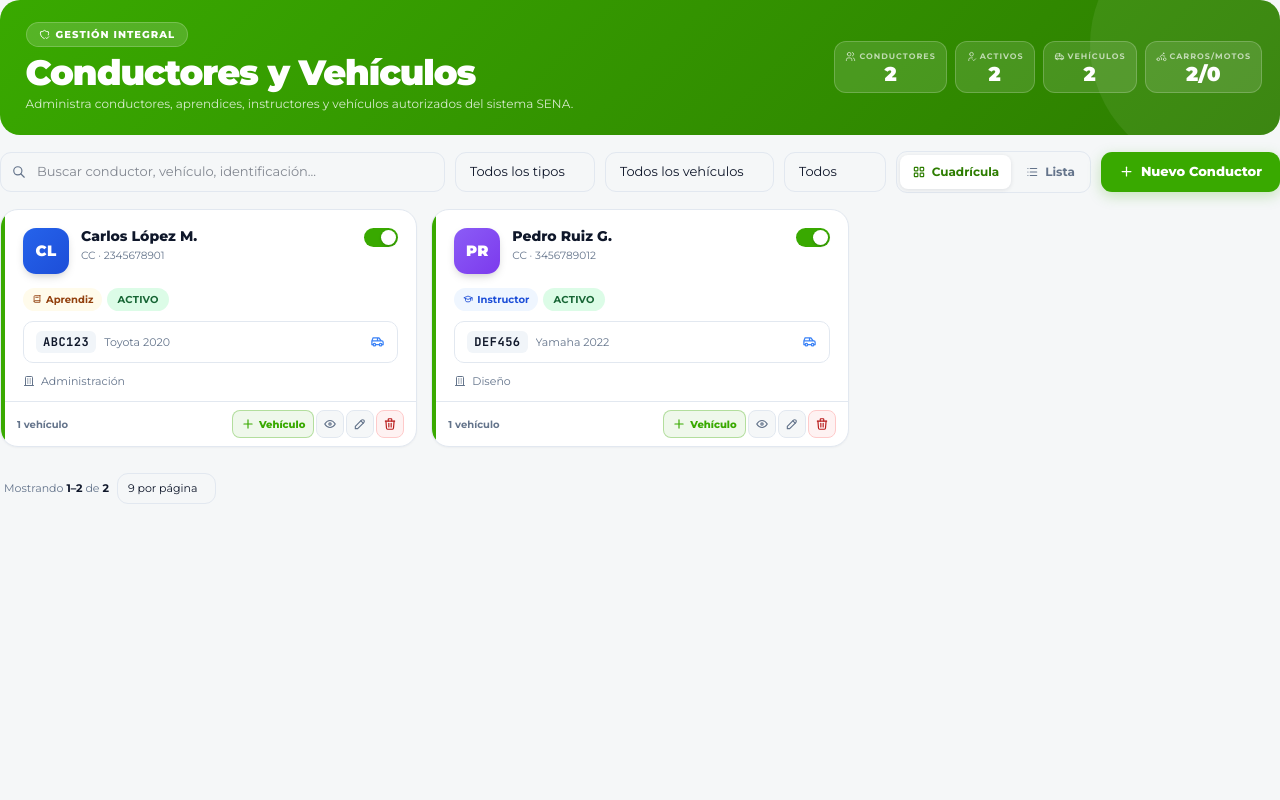
features/conductores › elimina un conductor tras confirmarlo, avisando que su cuenta no se borra
Expected: the text "Carlos López M." is shown, [81,227,197,245]
Click the button named "Eliminar Carlos López M.". click: [390, 424]
box: [376,410,404,438]
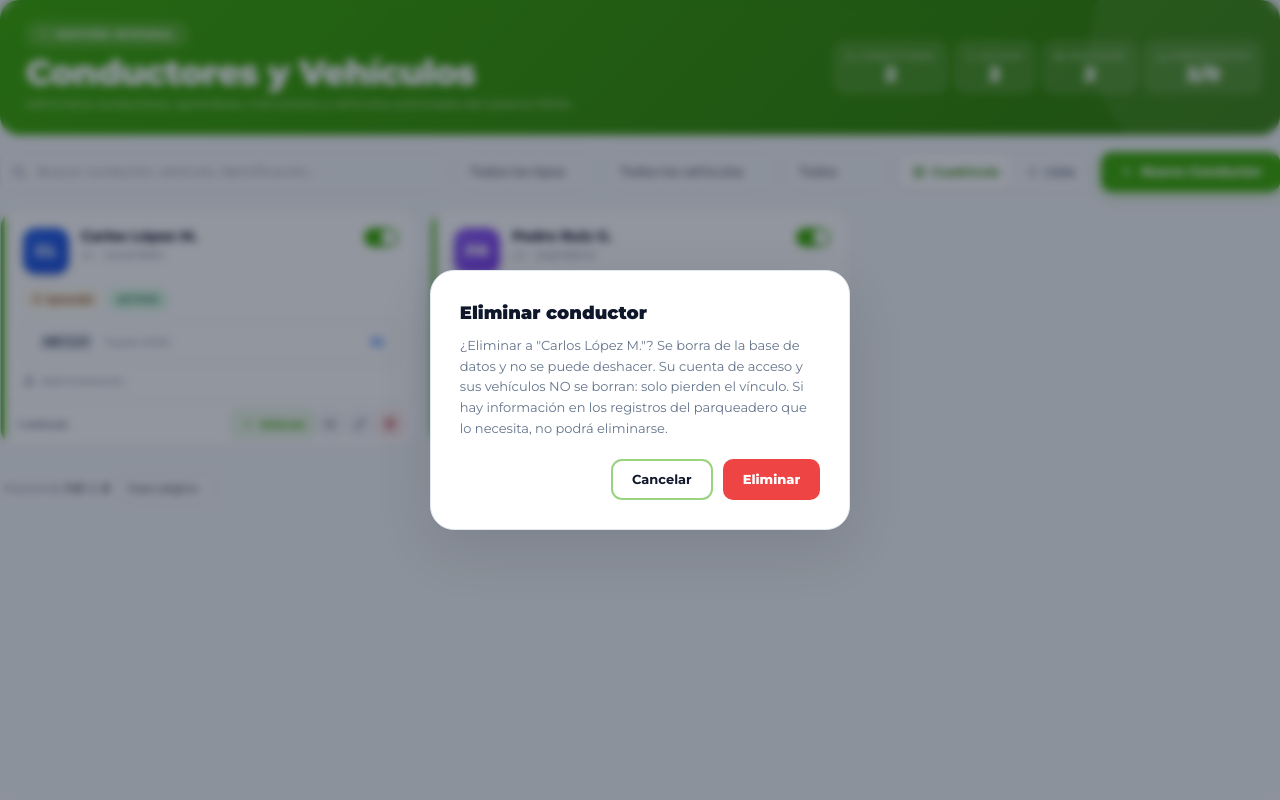
Now the text "Su cuenta de acceso y sus vehículos NO se borran" is shown, box [460,337,807,436]
Click the button "Eliminar". click: [771, 479]
box: [723,459,820,500]
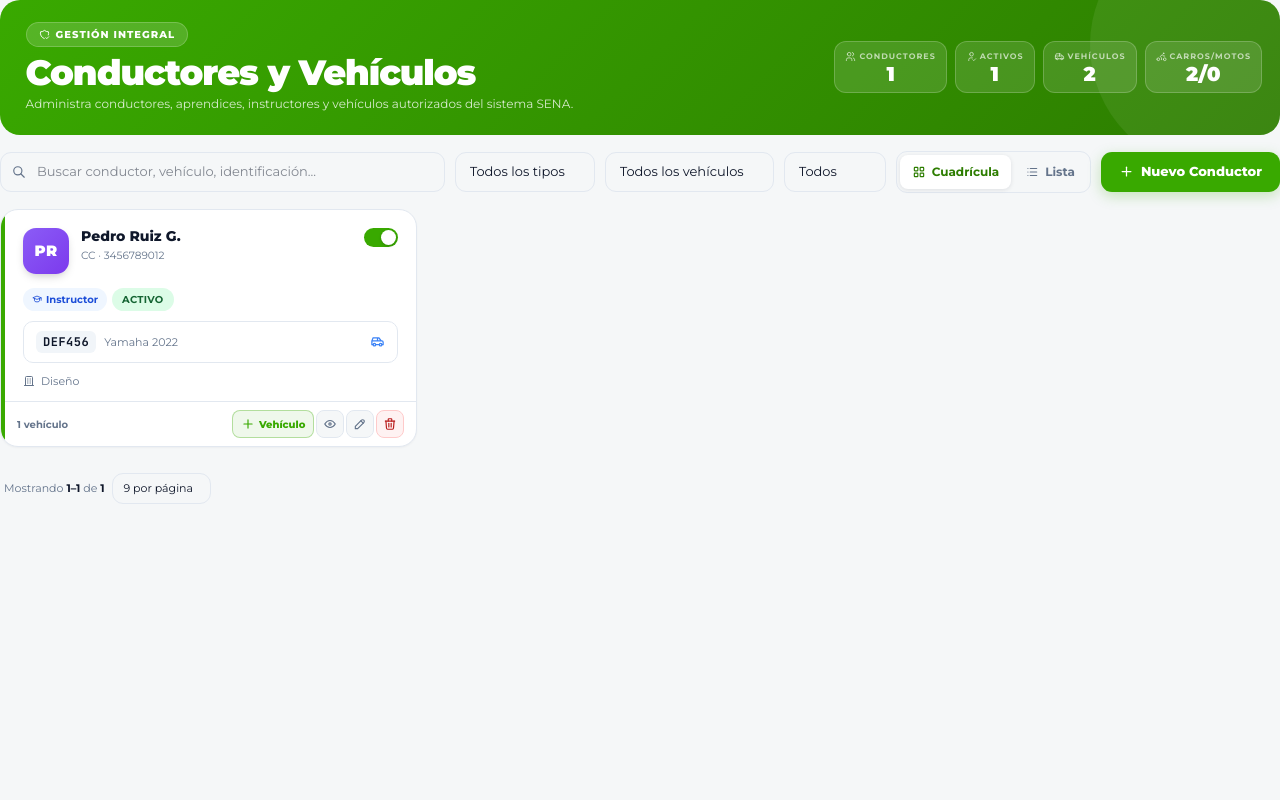
Expected: the text "Pedro Ruiz G." is shown, [81,227,181,245]
Now the text "Carlos López M." is gone
